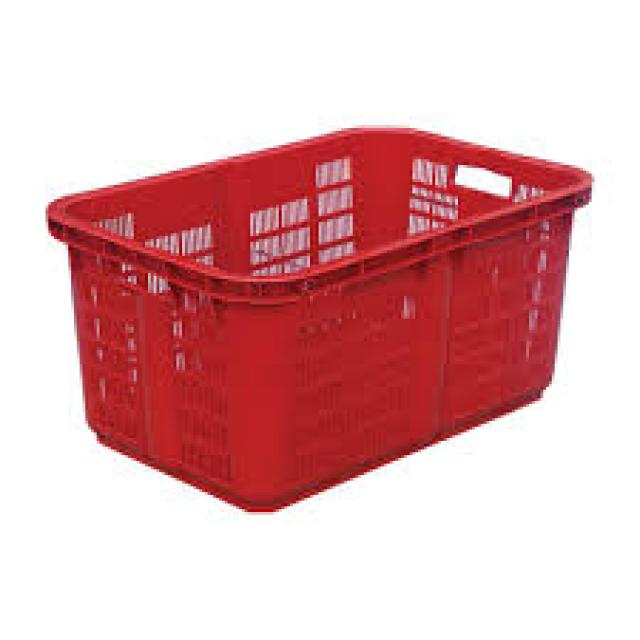basket: (42, 106, 620, 530)
